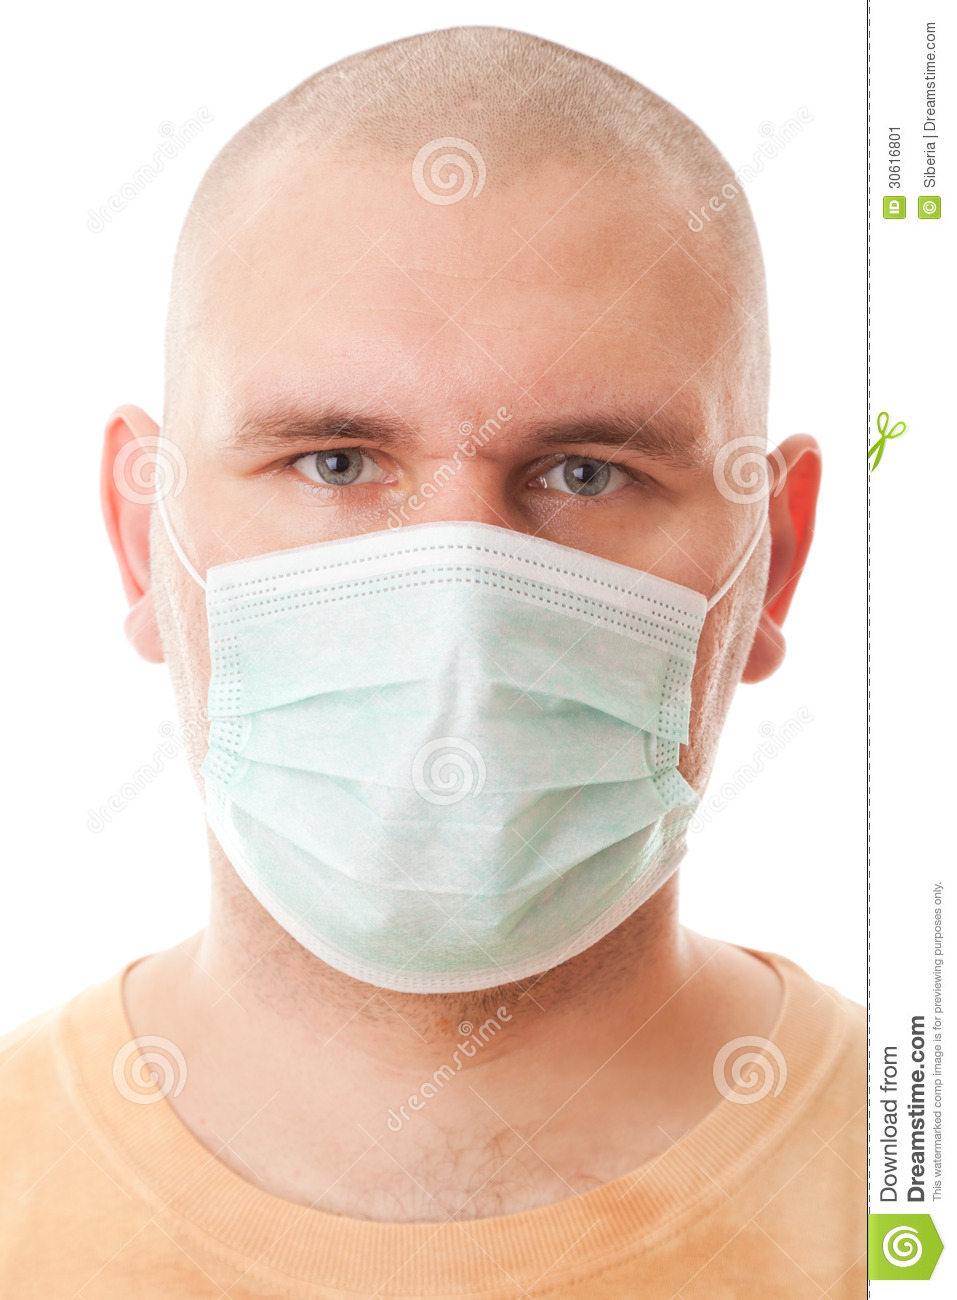mask: (198, 533, 702, 996)
